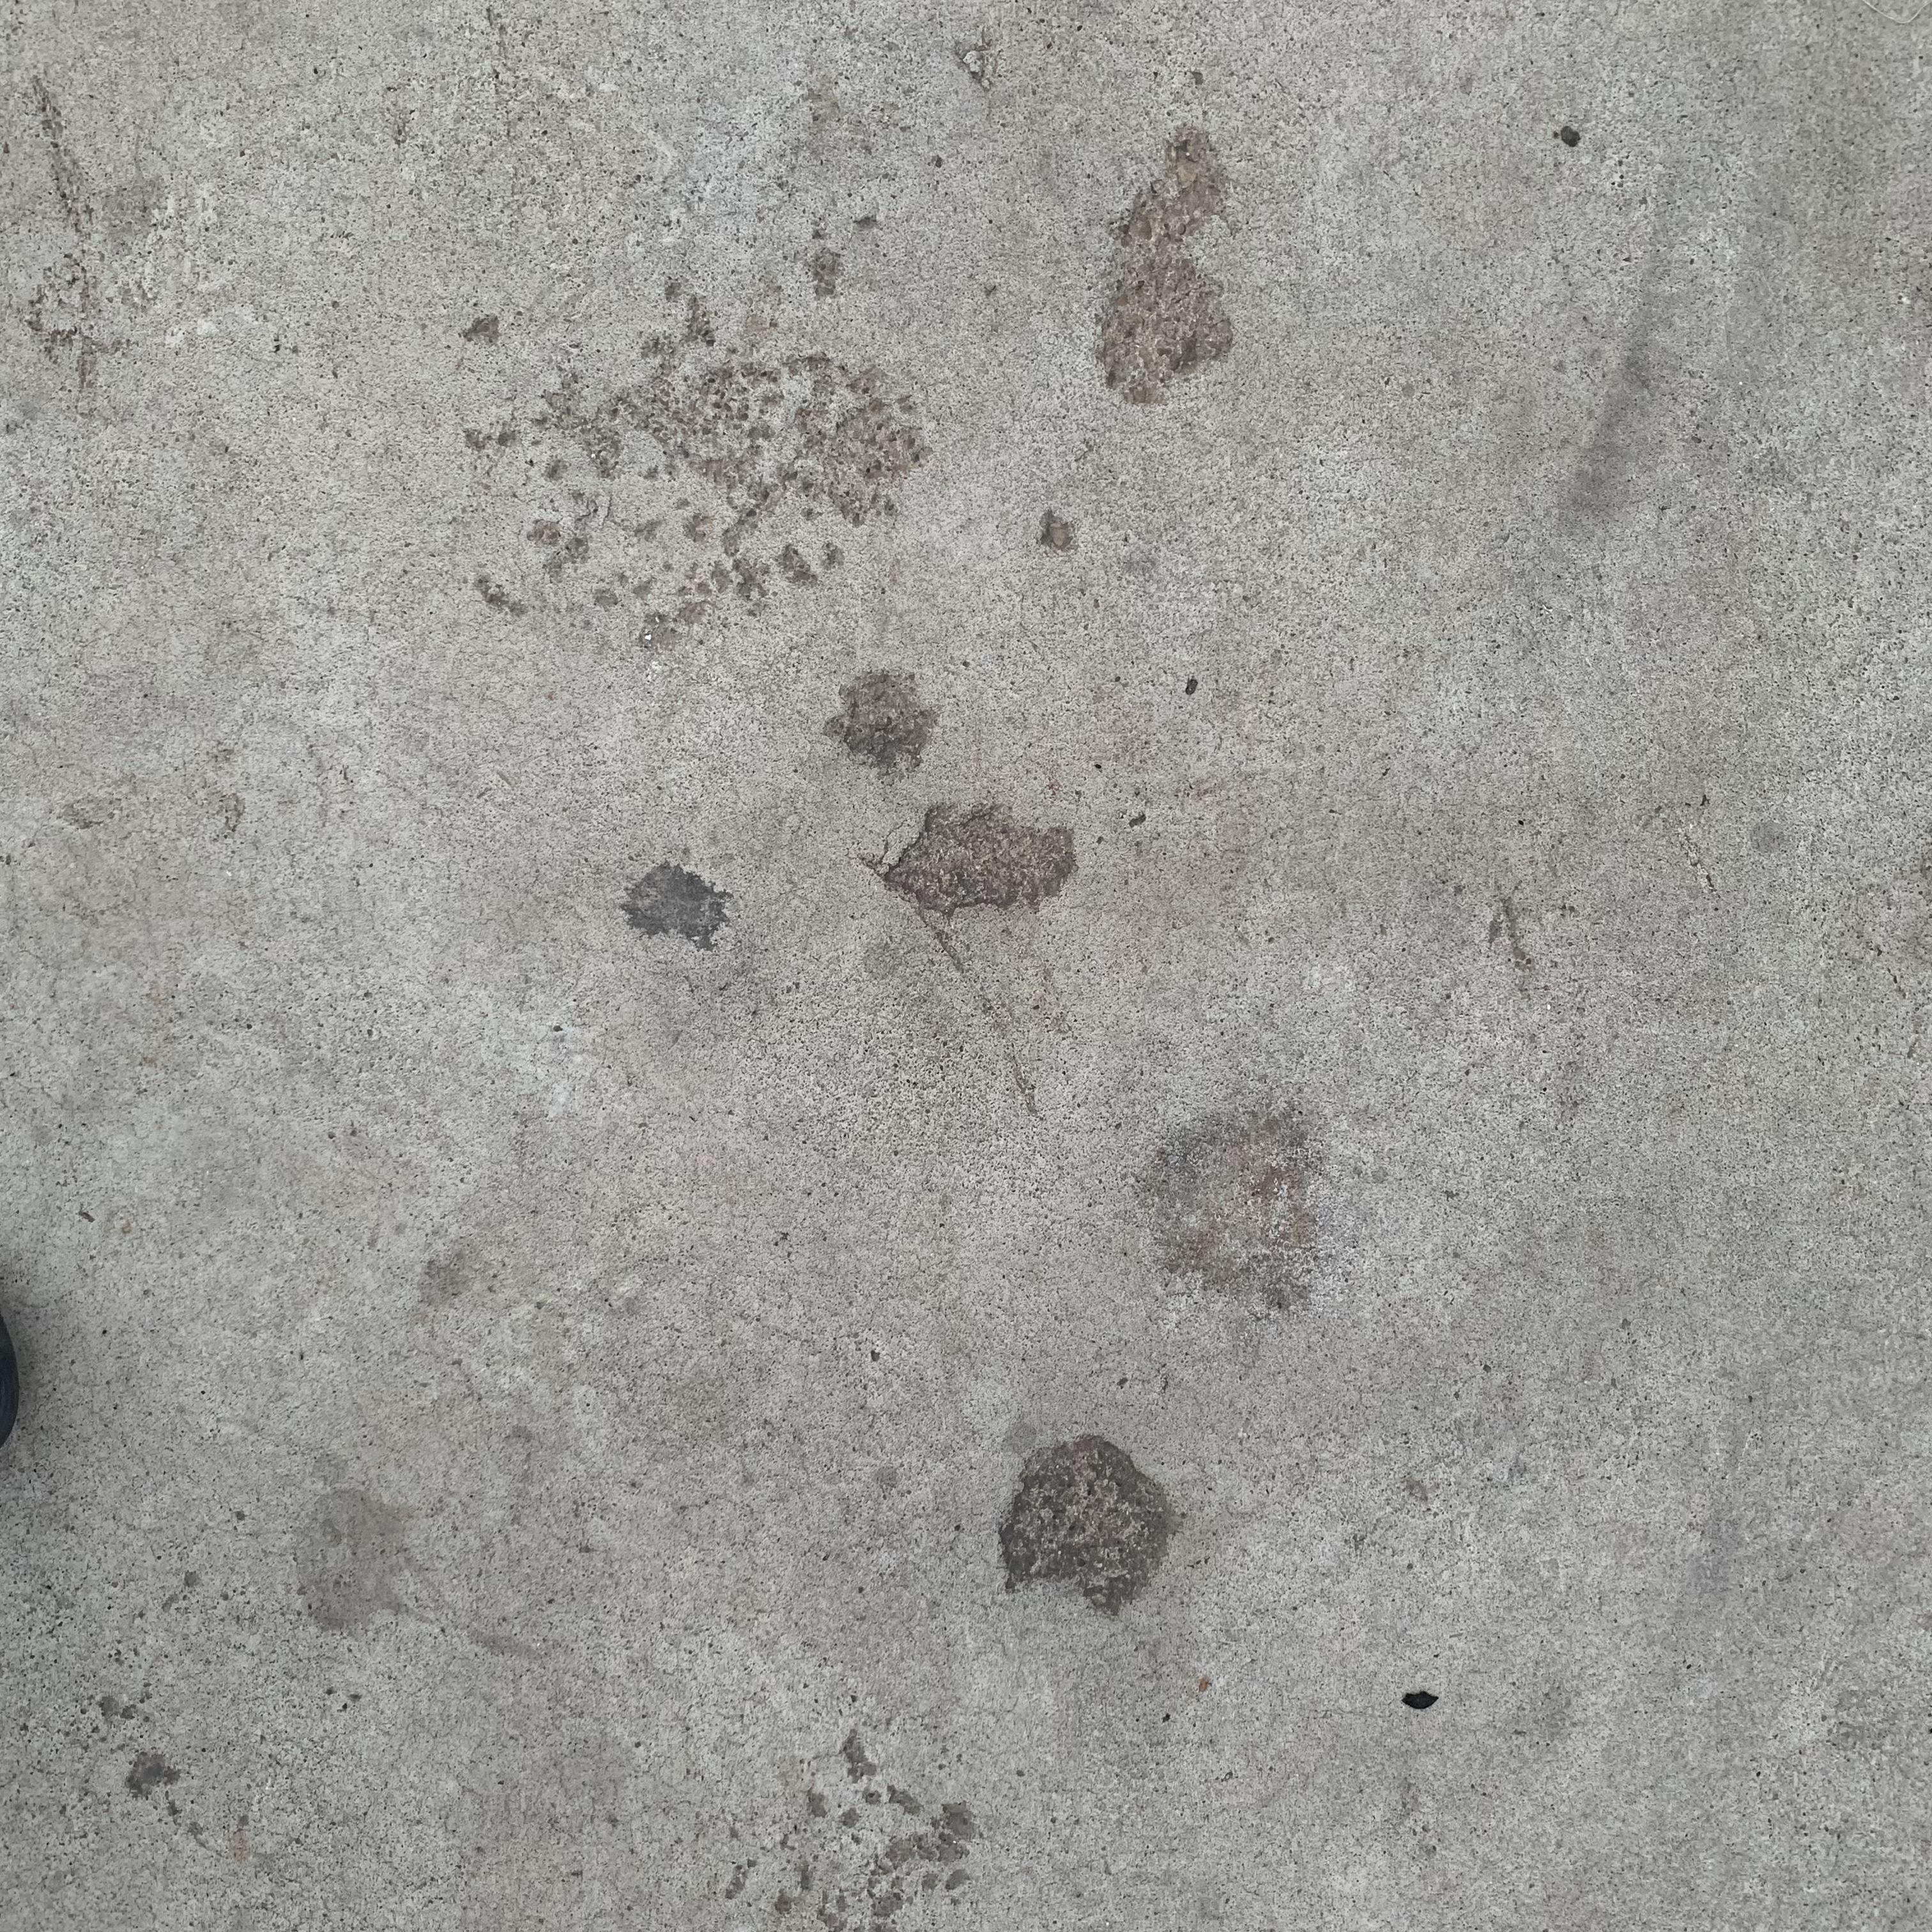grey spot: (740, 1718, 977, 1932), (1095, 124, 1235, 412), (1134, 1104, 1320, 1320), (1000, 1435, 1177, 1621), (879, 801, 1079, 918), (823, 671, 938, 780), (621, 863, 732, 952)
